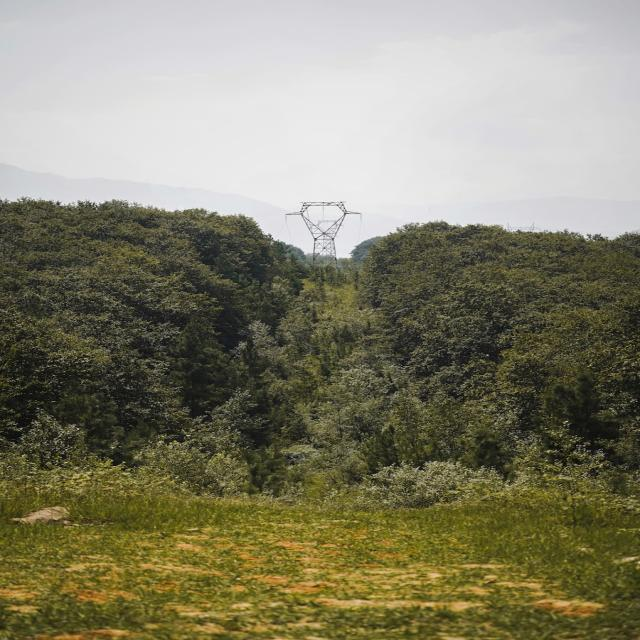transmission tower: (257, 182, 390, 252)
